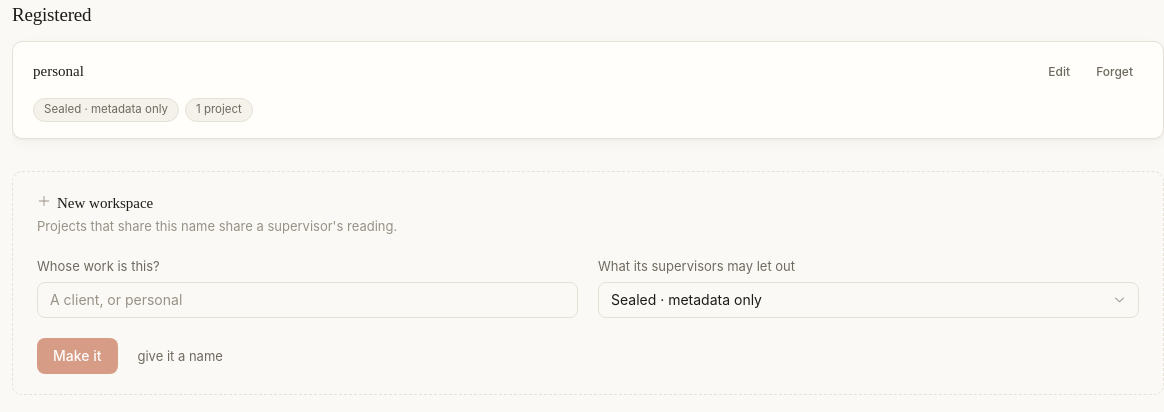
Scenario: editing a workspace › fills the form from the one you picked
What coordinates should you click on to do the following:
click the button "Edit"
I would click on:
 (1059, 72)
Its box is x1=1038 y1=58 x2=1080 y2=86.
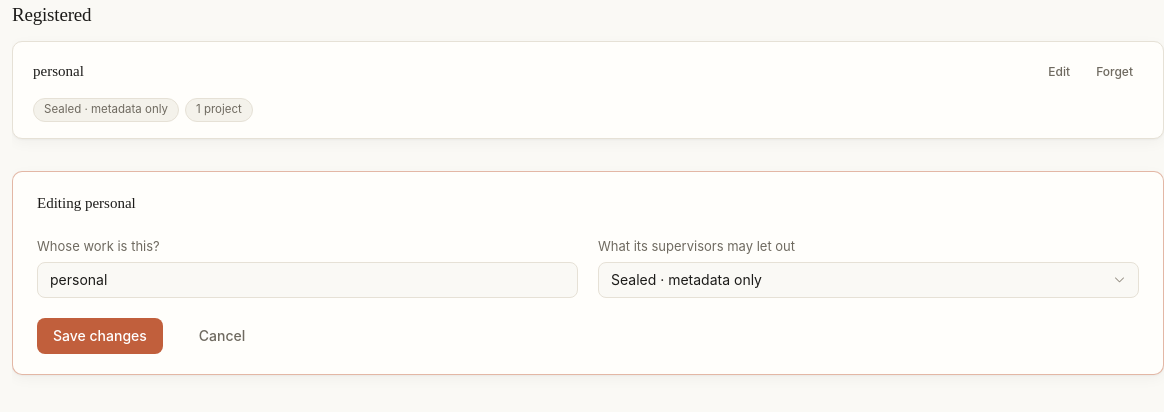
Result: the field labelled "Whose work is this?" holds "personal" at x1=37 y1=262 x2=578 y2=298
